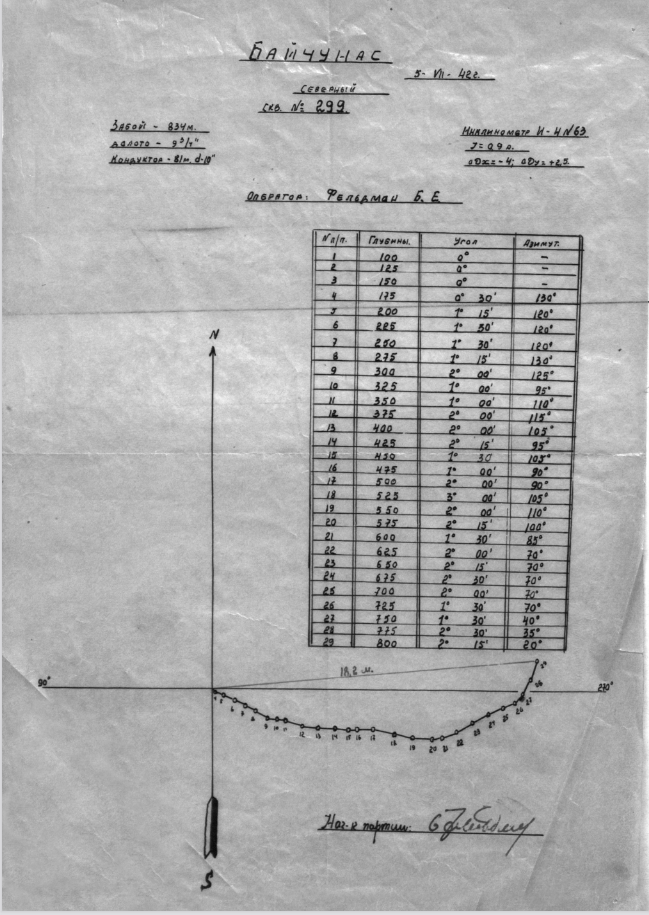Bordered: (310, 227, 585, 662)
